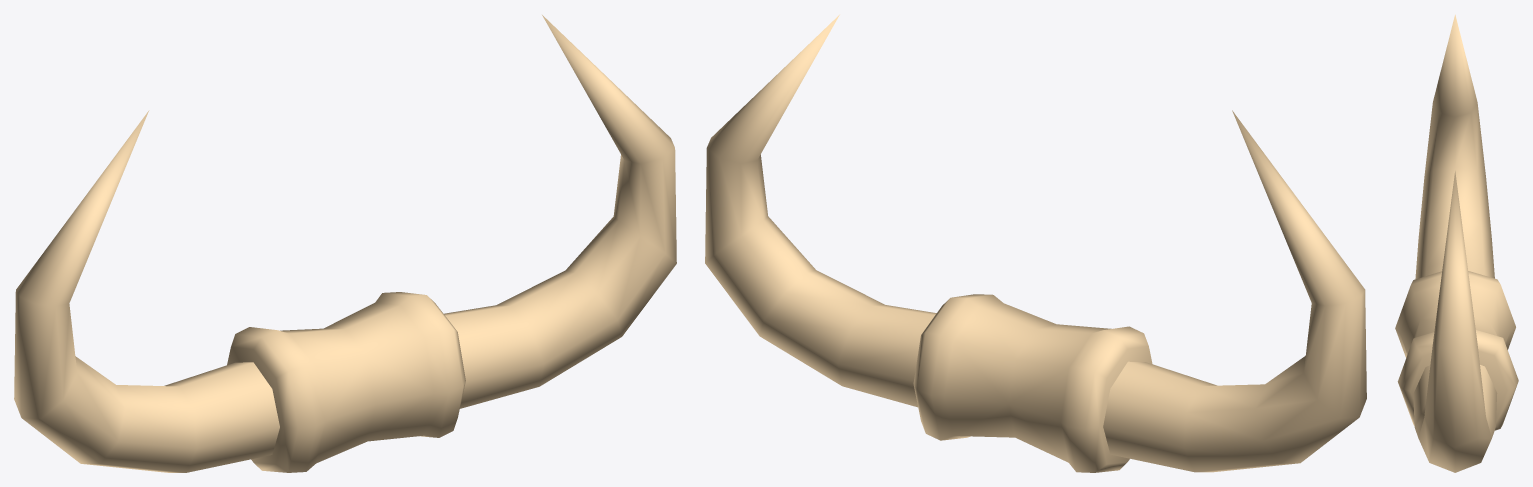
File: Fossil_Skeletal.fbx
3 views of the same model, side by side, from view 1: azimuth 30°, elevation 25°; view 2: azimuth 150°, elevation 25°; view 3: azimuth 270°, elevation 25° (orthographic). The views are drawn at different scales.
Parts seen in each view (by area): view 1: Fossil_Skeletal; view 2: Fossil_Skeletal; view 3: Fossil_Skeletal.
Part boxes in pixels (box(x1,y1,x2,y2)): Fossil_Skeletal: box(14, 15, 676, 472); Fossil_Skeletal: box(705, 14, 1366, 472); Fossil_Skeletal: box(1395, 14, 1518, 472).
Size of the model in its own units: 1298 by 746 by 262.
